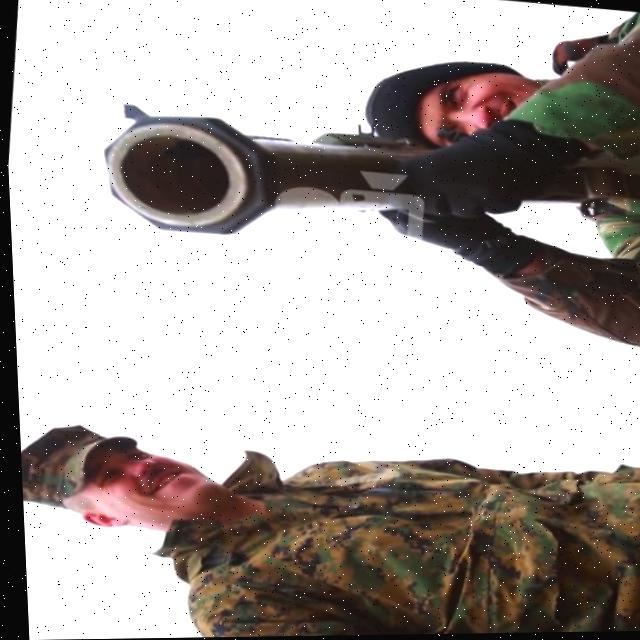rocket: (89, 106, 428, 257)
